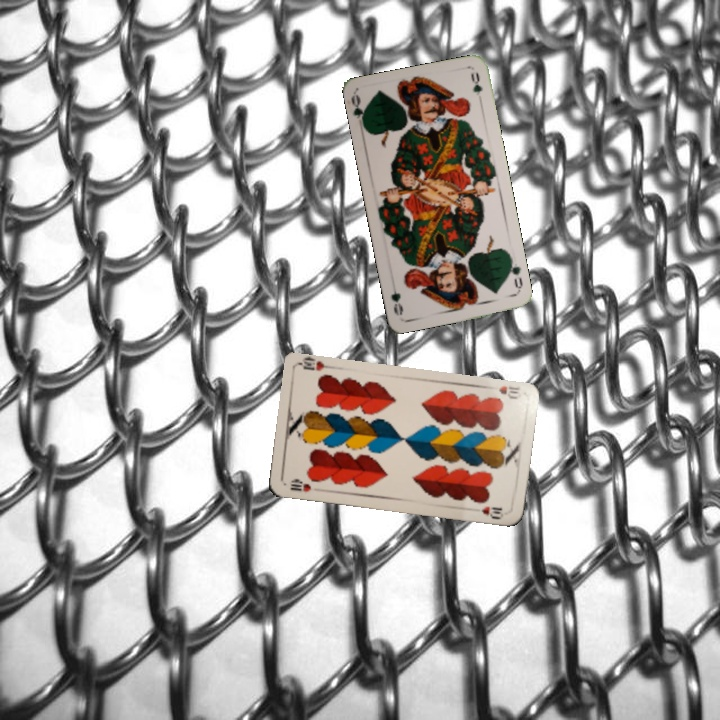GO: (347, 92, 369, 133), (504, 254, 525, 294)
H10: (495, 382, 524, 402), (286, 476, 314, 494)
